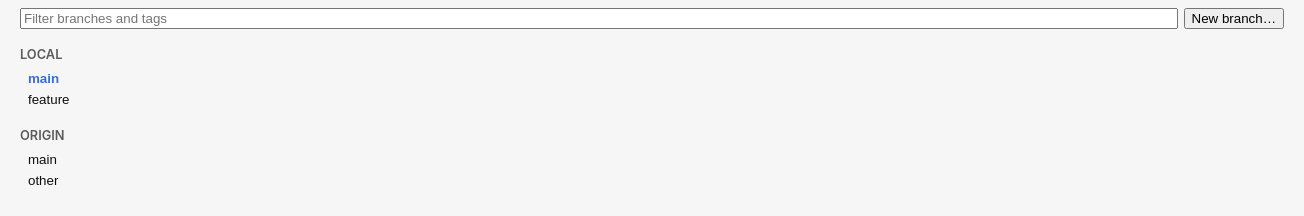
it: BranchesPanel filter › should clear the filter on Escape
Expected: the heading "Local" is shown, [20,47,62,62]
Type "oth" into the search field labelled "Filter branches and tags" at (599, 18), box [20,8,1178,29]
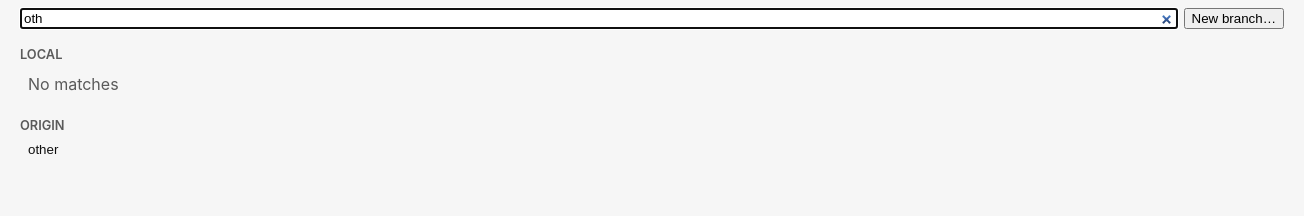
Press Escape
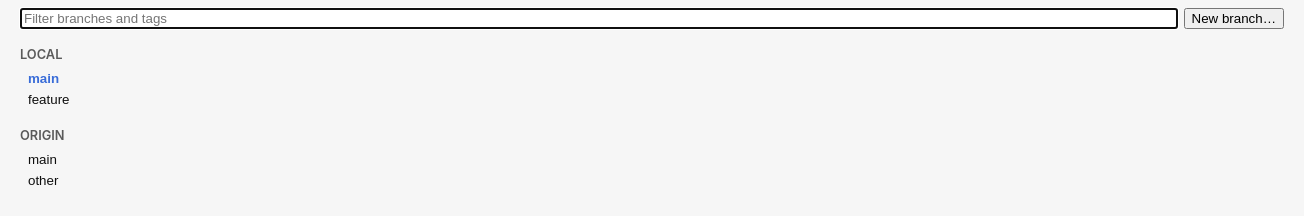
Expected: the search field labelled "Filter branches and tags" is empty, [20,8,1178,29]
Expected: the button titled "refs/heads/main" below "Local" is shown, [12,68,1292,89]
